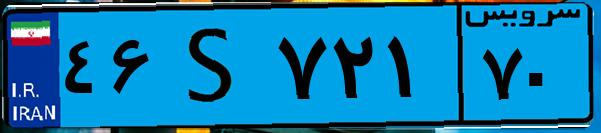0: (525, 38, 570, 115)
1: (385, 28, 445, 110)
2: (330, 28, 385, 110)
4: (57, 26, 110, 100)
6: (110, 28, 158, 98)
7: (270, 28, 330, 110), (475, 38, 525, 113)
S: (158, 12, 270, 120)
